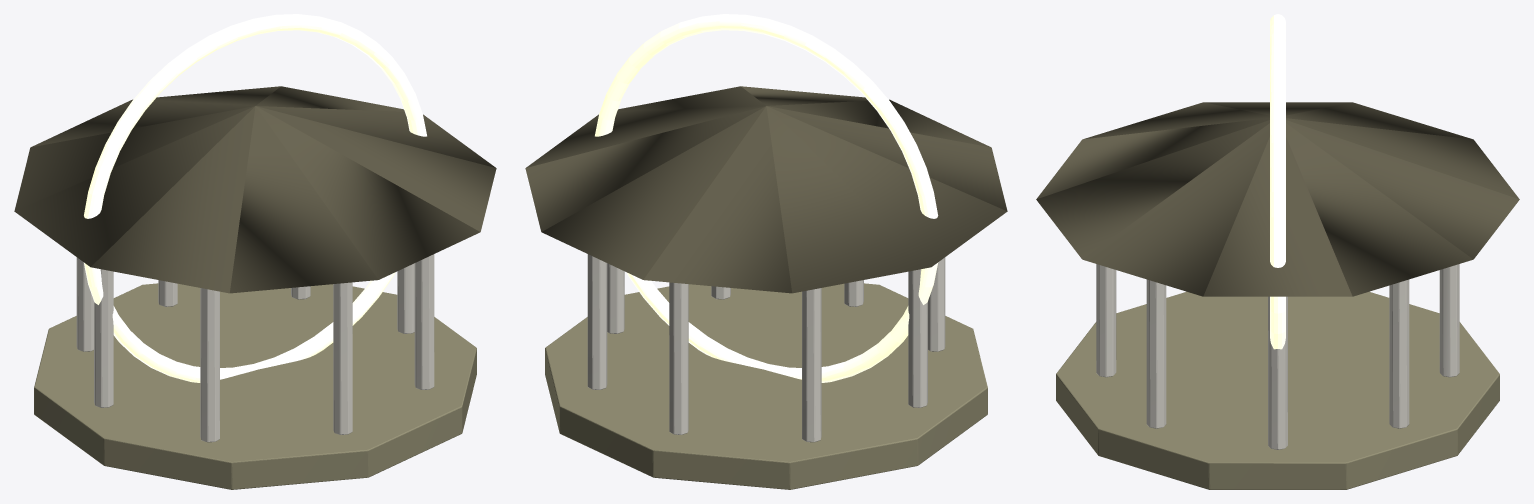
File: SM_Warmerdamm_Bandstand.fbx
The picture shows the model from 3 angles, left to right: view 1: azimuth 30°, elevation 25°; view 2: azimuth 150°, elevation 25°; view 3: azimuth 270°, elevation 25°; orthographic projection.
Visible parts, largest first — view 1: SM_Warmerdamm_Bandstand; view 2: SM_Warmerdamm_Bandstand; view 3: SM_Warmerdamm_Bandstand.
Part boxes in pixels (box(x1,y1,x2,y2)): SM_Warmerdamm_Bandstand: box(14, 14, 496, 489); SM_Warmerdamm_Bandstand: box(525, 14, 1007, 489); SM_Warmerdamm_Bandstand: box(1036, 14, 1519, 489).
Size of the model in its own units: 4.55 by 4.03 by 4.79.
